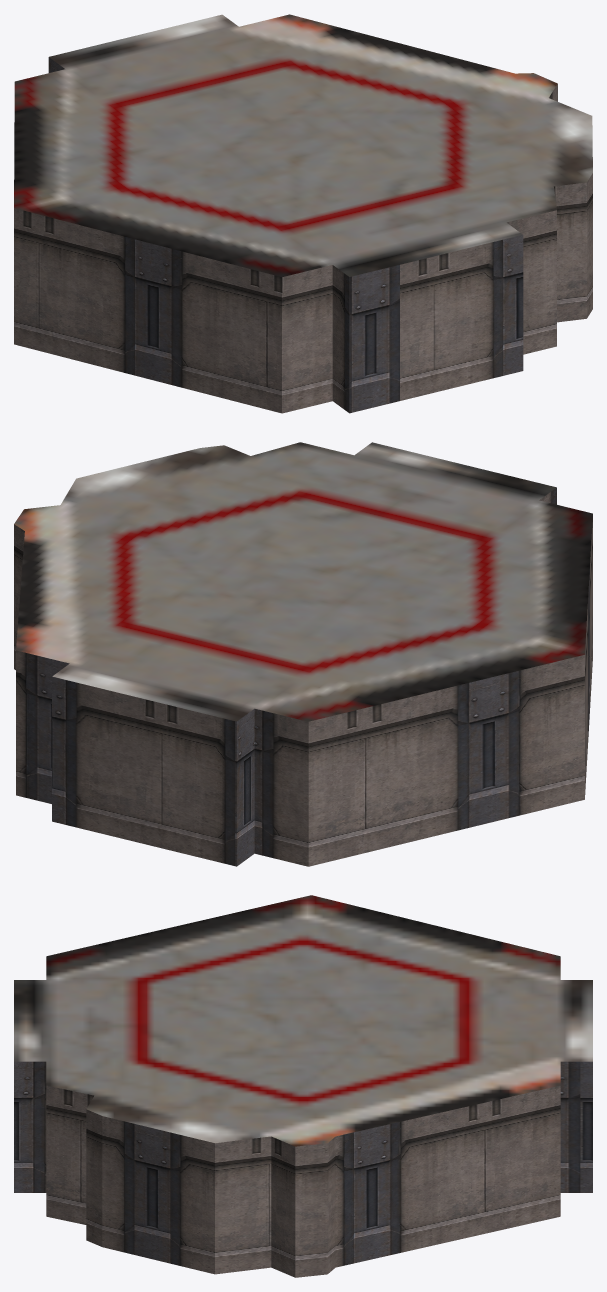
File: bsealed_light_13.glb
3 renders of one model, top to bottom at view 1: azimuth 30°, elevation 25°; view 2: azimuth 150°, elevation 25°; view 3: azimuth 270°, elevation 25°, orthographic. The views are drawn at different scales.
Visible parts, largest first — view 1: buildings/saxarba/bsealed_light/bsealed_light_13; view 2: buildings/saxarba/bsealed_light/bsealed_light_13; view 3: buildings/saxarba/bsealed_light/bsealed_light_13.
Boxes of the visible parts, box(x1,y1,x2,y2) form: buildings/saxarba/bsealed_light/bsealed_light_13: box(14, 14, 592, 413); buildings/saxarba/bsealed_light/bsealed_light_13: box(14, 442, 592, 866); buildings/saxarba/bsealed_light/bsealed_light_13: box(14, 895, 592, 1277).
Bounding box in the file's own units: 74 × 18 × 72.
